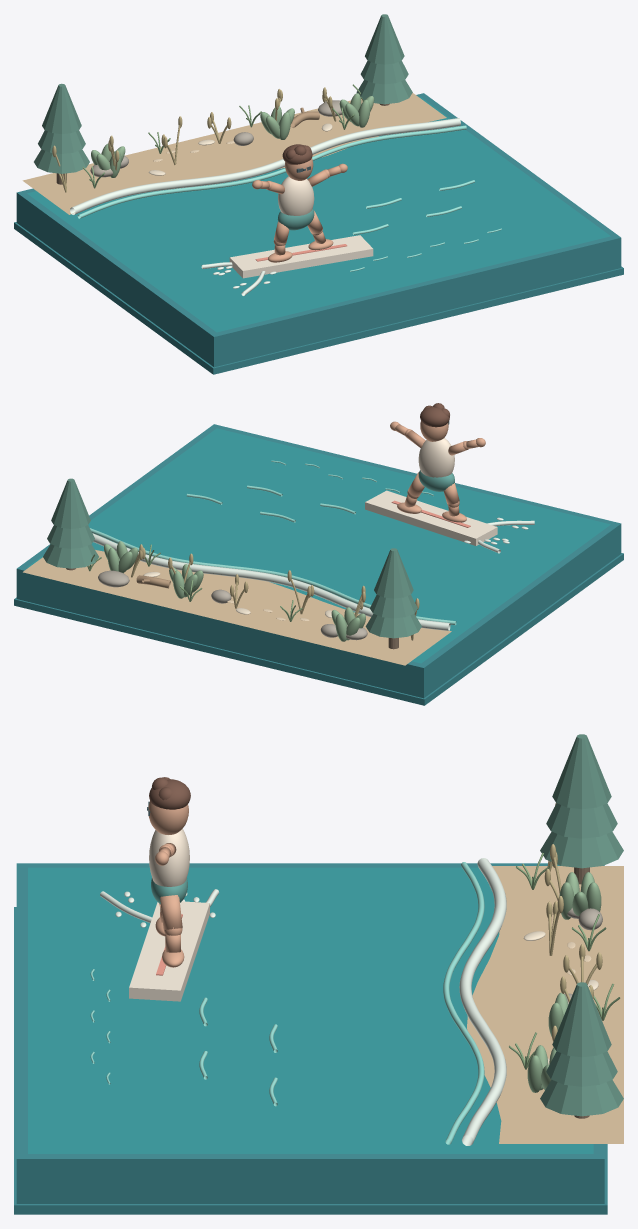
Rendered from SurferFlow.glb.
The picture shows the model from 3 angles, top to bottom: view 1: azimuth 30°, elevation 25°; view 2: azimuth 150°, elevation 25°; view 3: azimuth 270°, elevation 25°; orthographic projection. The views are drawn at different scales.
Visible parts, largest first — view 1: Ocean_Surface, Ocean_Tile_Beveled_Base, Meandering sandy coastline, Ocean_Tile_Lower_Trim, Shore wash, Surfboard_Main, Shallow water, Coastal pine.005, Coastal pine.002, Surfer_Cream_Top, Coastal pine, Coastal pine.003 (+2 smaller); view 2: Ocean_Surface, Ocean_Tile_Beveled_Base, Meandering sandy coastline, Ocean_Tile_Lower_Trim, Surfboard_Main, Shore wash, Coastal pine.005, Coastal pine.002, Shallow water, Surfer_Cream_Top, Coastal pine, Coastal pine.003 (+5 smaller); view 3: Ocean_Surface, Ocean_Tile_Beveled_Base, Meandering sandy coastline, Ocean_Tile_Lower_Trim, Surfboard_Main, Shore wash, Coastal pine.002, Coastal pine.005, Coastal pine.003, Coastal pine, Shallow water, Coastal pine.004 (+5 smaller).
Part boxes in pixels (x1,y1,x2,y2): Ocean_Surface: [27, 97, 610, 332]; Ocean_Tile_Beveled_Base: [16, 93, 621, 367]; Meandering sandy coastline: [22, 93, 446, 214]; Ocean_Tile_Lower_Trim: [14, 222, 623, 374]; Shore wash: [70, 118, 460, 214]; Surfboard_Main: [229, 235, 373, 278]; Shallow water: [77, 125, 466, 218]; Coastal pine.005: [365, 14, 404, 64]; Coastal pine.002: [42, 83, 81, 133]; Surfer_Cream_Top: [278, 176, 314, 215]; Coastal pine: [34, 149, 89, 173]; Coastal pine.003: [356, 79, 412, 104]; Ocean_Surface: [27, 428, 610, 663]; Ocean_Tile_Beveled_Base: [16, 424, 621, 698]; Meandering sandy coastline: [23, 550, 451, 665]; Ocean_Tile_Lower_Trim: [14, 553, 623, 705]; Surfboard_Main: [365, 490, 497, 545]; Shore wash: [92, 533, 450, 630]; Coastal pine.005: [51, 478, 90, 528]; Coastal pine.002: [374, 548, 413, 598]; Shallow water: [90, 528, 456, 625]; Surfer_Cream_Top: [418, 438, 454, 477]; Coastal pine: [365, 613, 421, 638]; Coastal pine.003: [43, 544, 98, 568]; Ocean_Surface: [28, 867, 593, 1153]; Ocean_Tile_Beveled_Base: [16, 863, 604, 1203]; Meandering sandy coastline: [467, 866, 623, 1143]; Ocean_Tile_Lower_Trim: [14, 907, 607, 1214]; Surfboard_Main: [129, 901, 209, 1001]; Shore wash: [459, 858, 506, 1145]; Coastal pine.002: [552, 734, 611, 809]; Coastal pine.005: [552, 982, 611, 1057]; Coastal pine.003: [540, 1079, 623, 1116]; Coastal pine: [540, 831, 623, 868]; Shallow water: [443, 862, 484, 1144]; Coastal pine.004: [546, 1051, 617, 1086].
Bounding box in the file's own units: 4.03 × 1.49 × 3.49.
